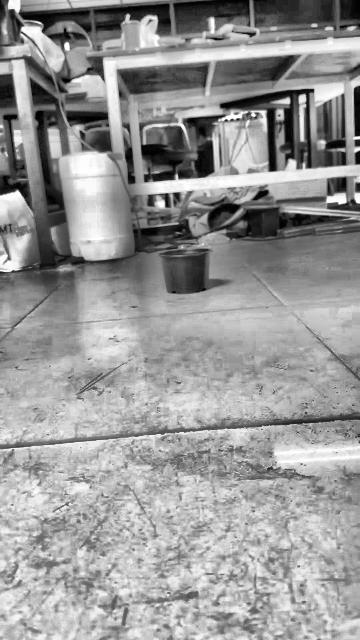pot: (157, 247, 211, 293)
